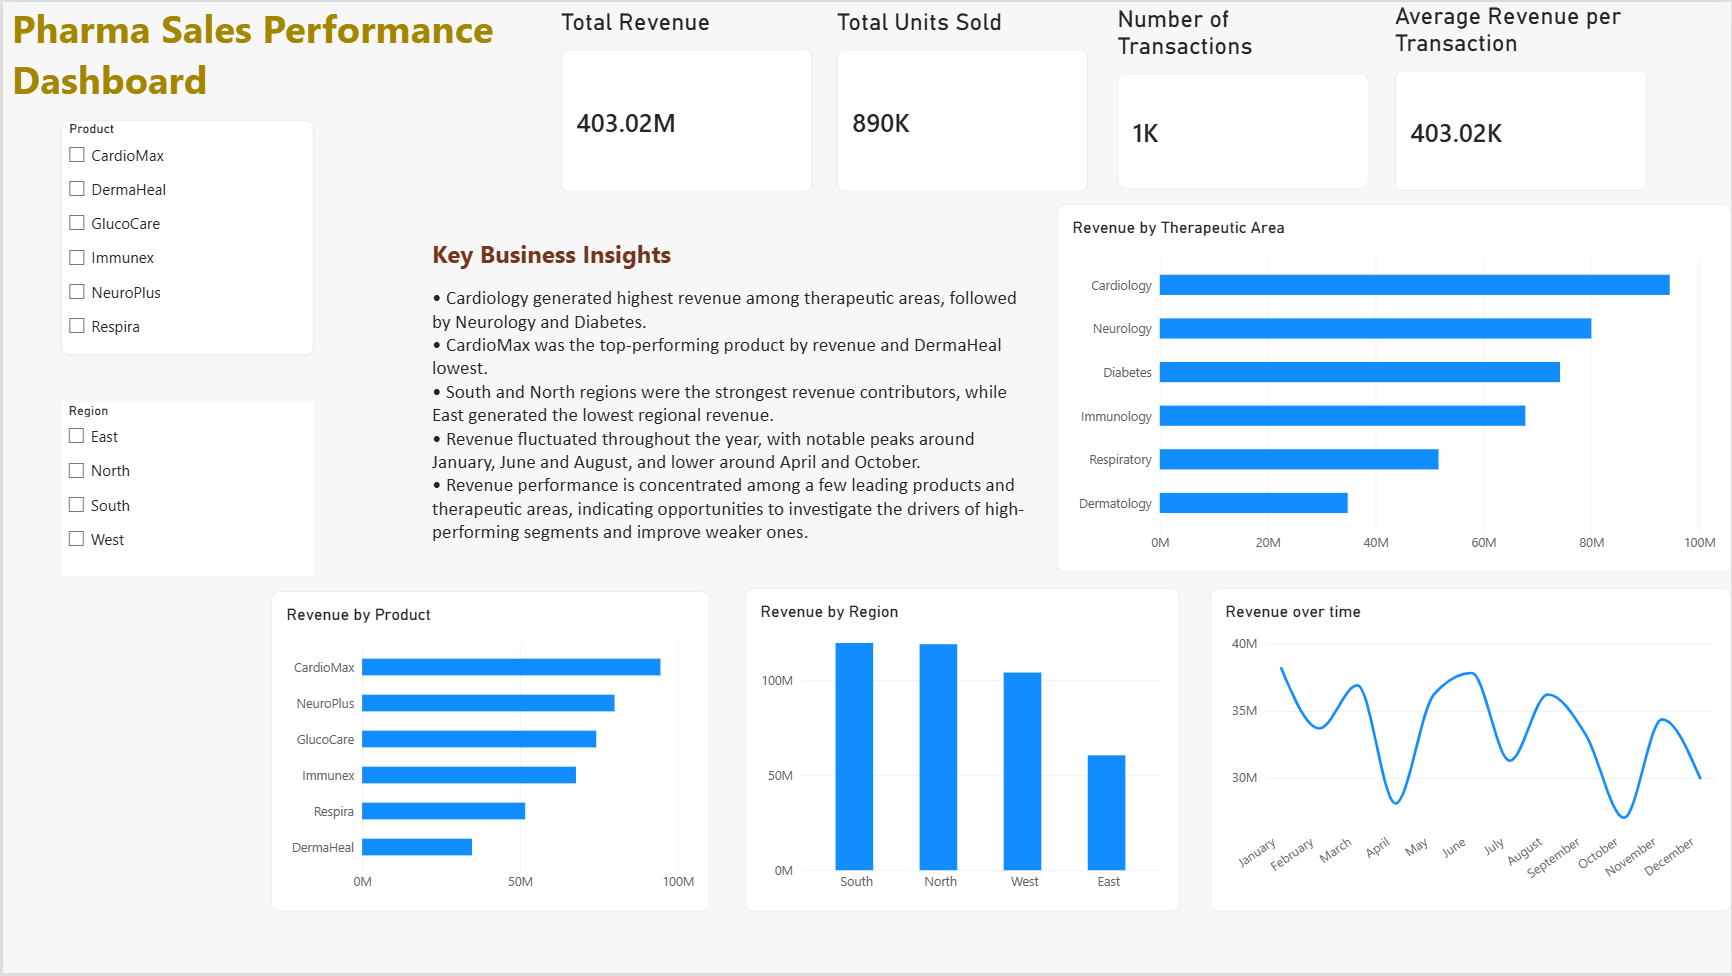

The page's visual inventory and layout, read from the dashboard file:
{"tool":"powerbi","page":{"name":"Page 1","canvas":[1920,1080],"ordinal":0},"visuals":[{"type":"cardVisual","title":"Total Revenue","fields":{"Data":["Sum(pharmaceutical_commercial_sales_powerbi.Revenue)"]},"box":[620,6.7,279.7,204.1],"z":0},{"type":"cardVisual","title":"Total Units Sold","fields":{"Data":["Sum(pharmaceutical_commercial_sales_powerbi.Units Sold)"]},"box":[926.7,6.7,279.7,204.1],"z":1000},{"type":"cardVisual","title":"Number of Transactions","fields":{"Data":["pharmaceutical_commercial_sales_powerbi.Number of Transactions"]},"box":[1238.3,3.3,279.7,204.1],"z":2000},{"type":"cardVisual","title":"Average Revenue per Transaction","fields":{"Data":["Avg(pharmaceutical_commercial_sales_powerbi.Revenue)"]},"box":[1546.7,0,280,210],"z":3000},{"type":"clusteredColumnChart","title":"Revenue by Region","fields":{"Category":["pharmaceutical_commercial_sales_powerbi.Region"],"Y":["Sum(pharmaceutical_commercial_sales_powerbi.Revenue)"]},"box":[825,651.7,481.7,358.3],"z":4000},{"type":"clusteredBarChart","title":"Revenue by Product","fields":{"Category":["pharmaceutical_commercial_sales_powerbi.Product"],"Y":["Sum(pharmaceutical_commercial_sales_powerbi.Revenue)"]},"box":[298.3,655,486.7,355],"z":5000},{"type":"lineChart","title":"Revenue over time","fields":{"Category":["pharmaceutical_commercial_sales_powerbi.Date.Variation.Date Hierarchy.Month"],"Y":["Sum(pharmaceutical_commercial_sales_powerbi.Revenue)"]},"box":[1341.7,651.7,578.3,358.3],"z":6000},{"type":"clusteredBarChart","title":"Revenue by Therapeutic Area","fields":{"Category":["pharmaceutical_commercial_sales_powerbi.Therapeutic Area"],"Y":["Sum(pharmaceutical_commercial_sales_powerbi.Revenue)"]},"box":[1171.7,225,748.3,408.3],"z":7000},{"type":"slicer","fields":{"Values":["pharmaceutical_commercial_sales_powerbi.Region"]},"box":[65,445,280,191.7],"z":8000},{"type":"slicer","fields":{"Values":["pharmaceutical_commercial_sales_powerbi.Product"]},"box":[65,131.7,280,260],"z":9000},{"type":"textbox","box":[10,0,575,203.3],"z":10000},{"type":"textbox","box":[476.7,261.7,673.3,365],"z":11000}]}

Visuals, with their boxes in screenshot pixels (x1, y1, x2, y2), scaled from the page's 1920x1080 canvas onto the 1732x976 screenshot:
"Total Revenue" cardVisual: {"x1": 559, "y1": 6, "x2": 812, "y2": 191}
"Total Units Sold" cardVisual: {"x1": 836, "y1": 6, "x2": 1088, "y2": 191}
"Number of Transactions" cardVisual: {"x1": 1117, "y1": 3, "x2": 1369, "y2": 187}
"Average Revenue per Transaction" cardVisual: {"x1": 1395, "y1": 0, "x2": 1648, "y2": 190}
"Revenue by Region" clusteredColumnChart: {"x1": 744, "y1": 589, "x2": 1179, "y2": 913}
"Revenue by Product" clusteredBarChart: {"x1": 269, "y1": 592, "x2": 708, "y2": 913}
"Revenue over time" lineChart: {"x1": 1210, "y1": 589, "x2": 1731, "y2": 913}
"Revenue by Therapeutic Area" clusteredBarChart: {"x1": 1057, "y1": 203, "x2": 1731, "y2": 572}
slicer - pharmaceutical_commercial_sales_powerbi.Region: {"x1": 59, "y1": 402, "x2": 311, "y2": 575}
slicer - pharmaceutical_commercial_sales_powerbi.Product: {"x1": 59, "y1": 119, "x2": 311, "y2": 354}
textbox: {"x1": 9, "y1": 0, "x2": 528, "y2": 184}
textbox: {"x1": 430, "y1": 236, "x2": 1037, "y2": 566}
